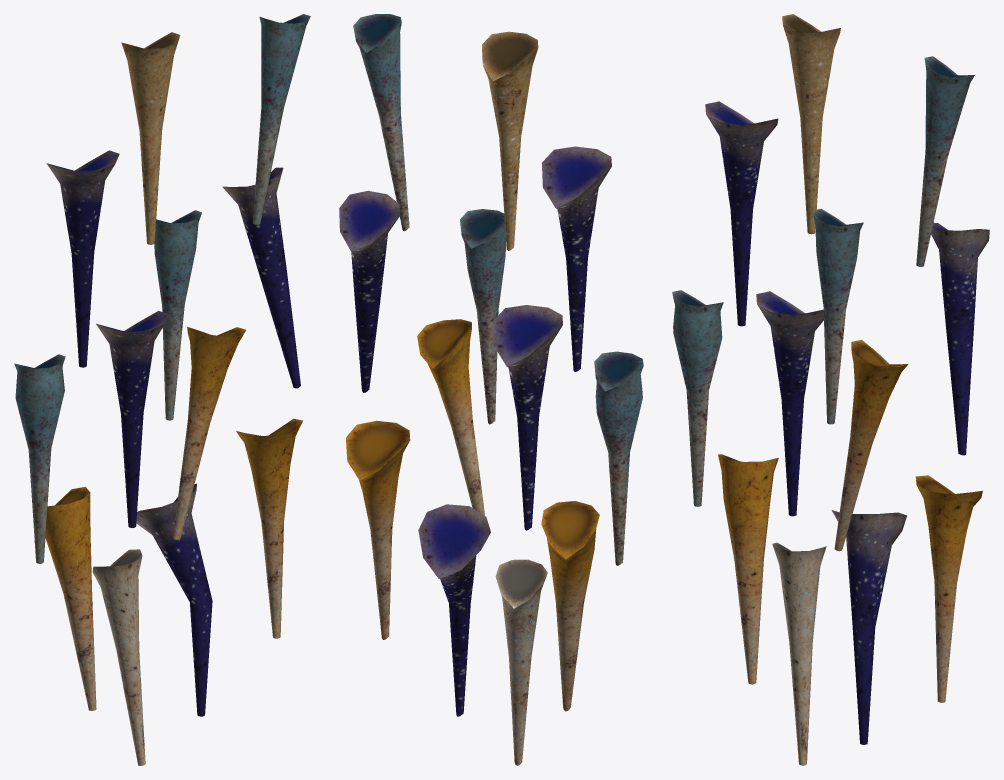
File: ScrollDecorFish04.fbx
3 renders of one model, left to right at view 1: azimuth 30°, elevation 25°; view 2: azimuth 150°, elevation 25°; view 3: azimuth 330°, elevation 25°, orthographic. The views are drawn at different scales.
Visible parts, largest first — view 1: ScrollDecorFish04; view 2: ScrollDecorFish04; view 3: ScrollDecorFish04.
Part boxes in pixels (<box>): ScrollDecorFish04: <box>14,14,310,765</box>; ScrollDecorFish04: <box>339,14,643,765</box>; ScrollDecorFish04: <box>672,14,989,765</box>.
Bounding box in the file's own units: 76.69 × 185 × 24.56.
